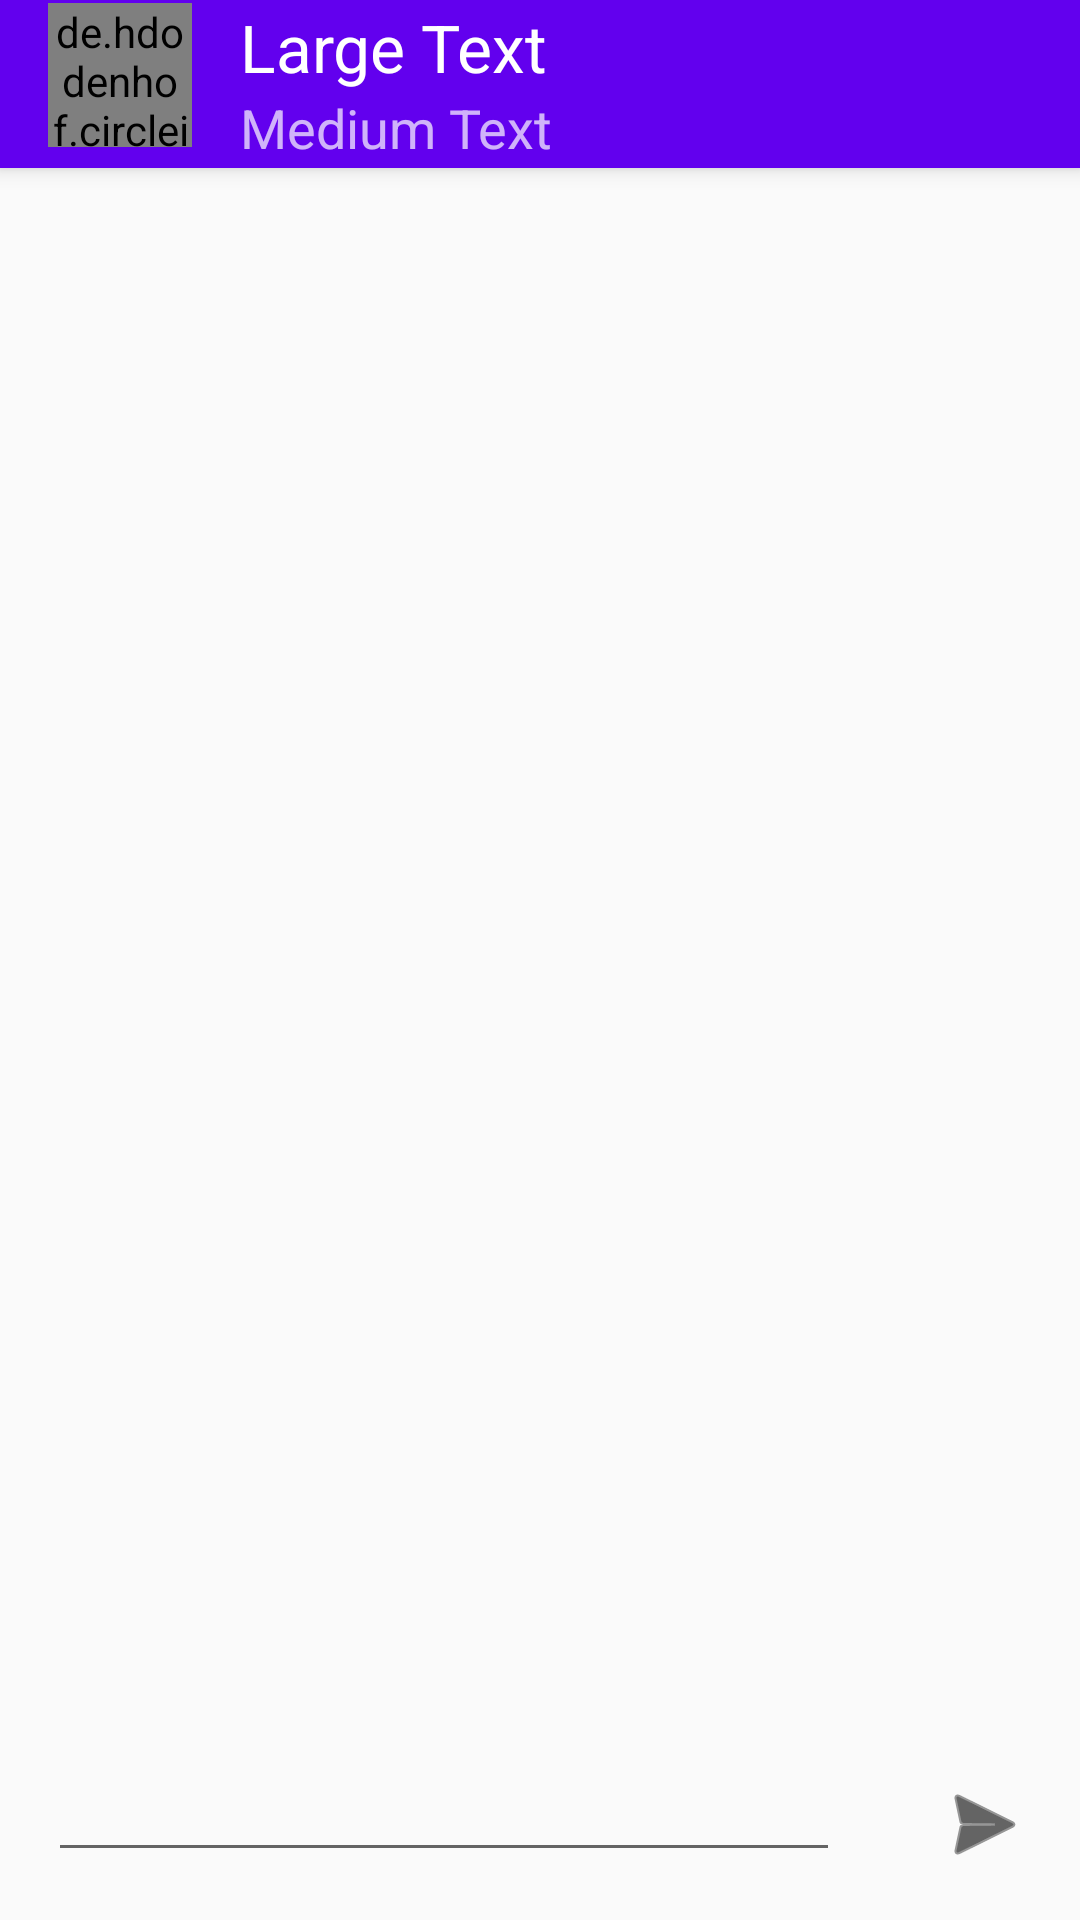

Named icons in this screenshot (1080 x 1920) and their centers, [x,y]:
send: [985,1824]
